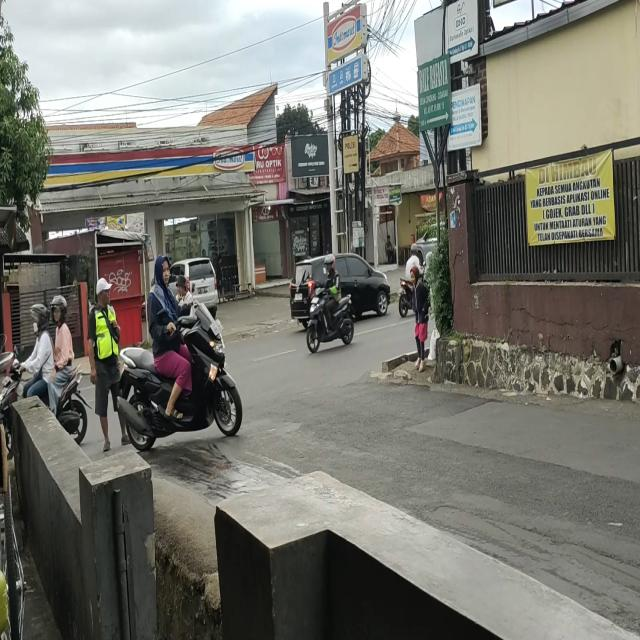helmet: (29, 303, 48, 340), (51, 297, 67, 330), (326, 253, 335, 270)
no-helmet: (154, 256, 172, 290)
